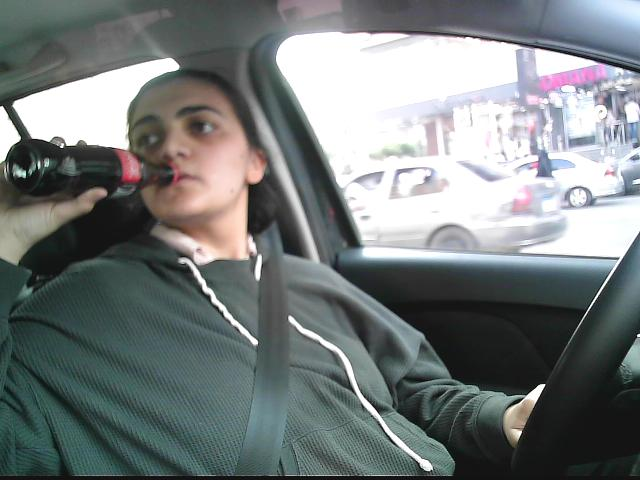Drinking: (4, 138, 182, 194)
